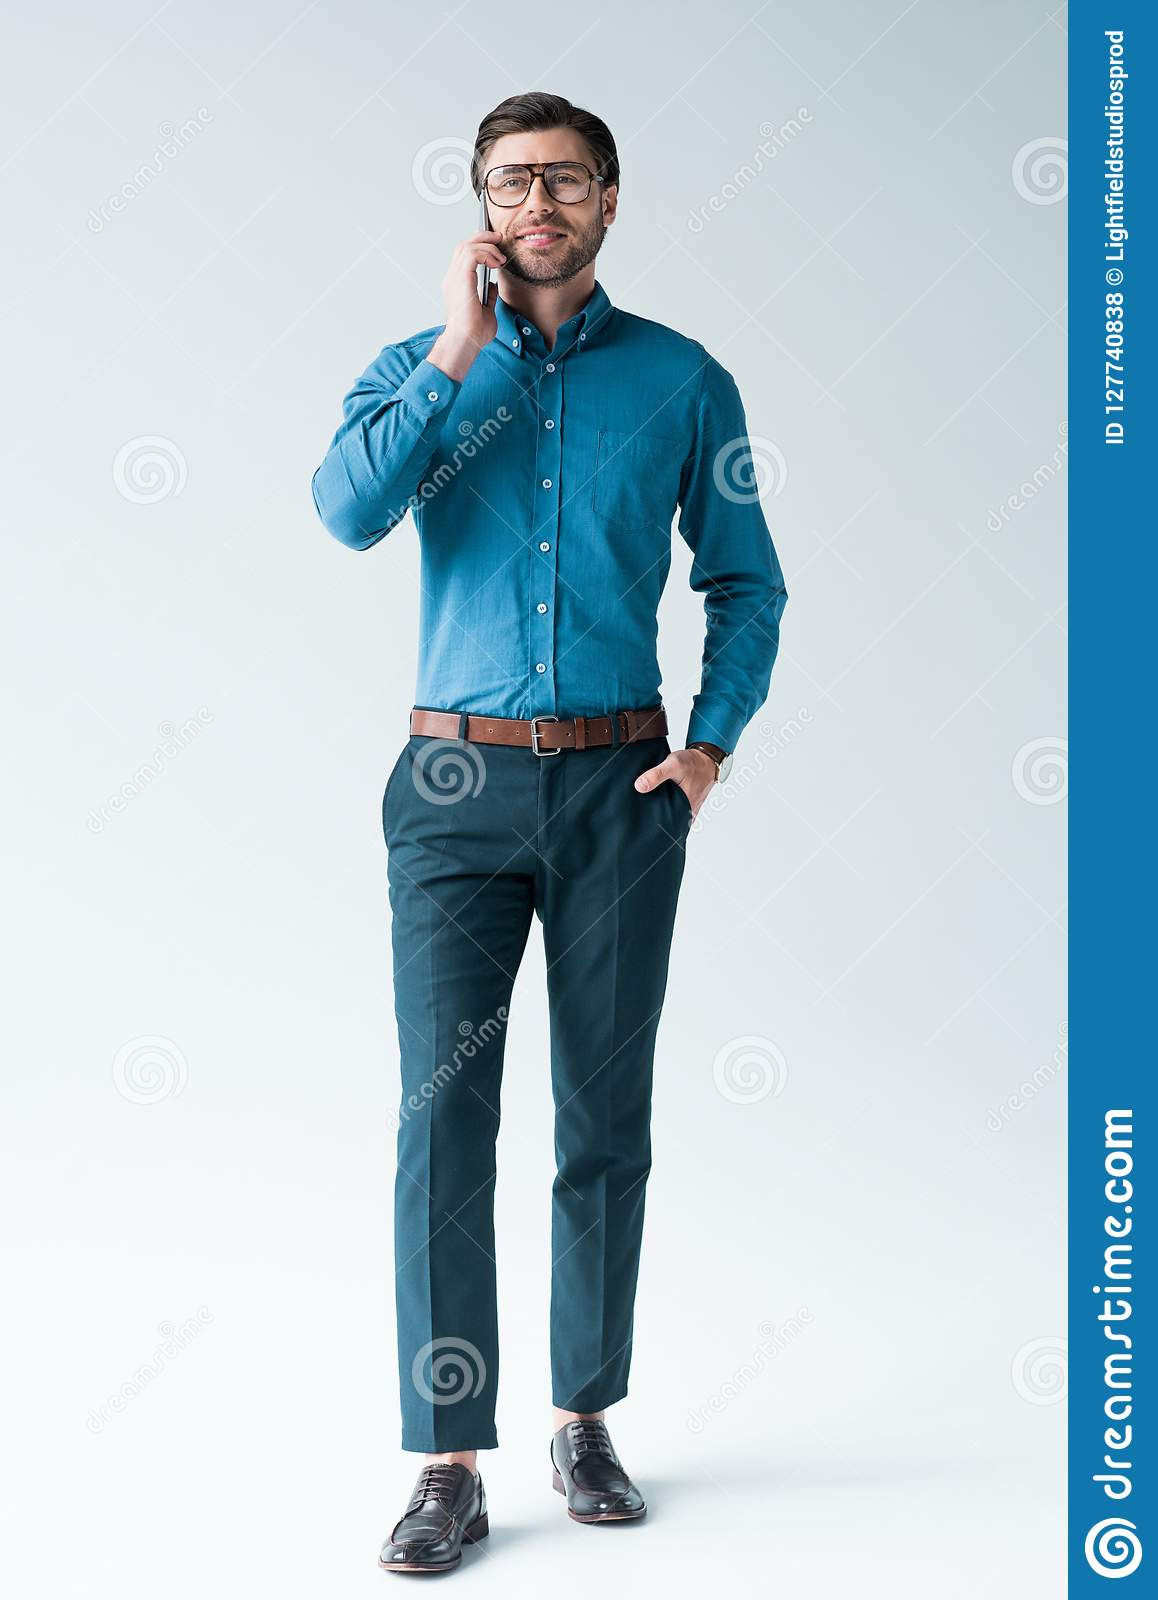phone: (475, 188, 495, 308)
talk: (442, 157, 596, 361)
